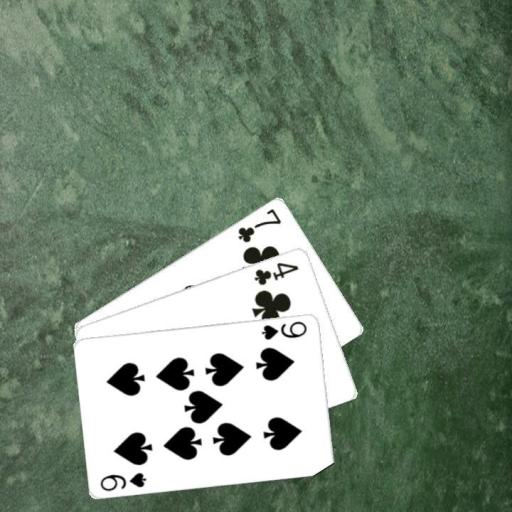4C: (251, 259, 301, 286)
7C: (235, 205, 283, 244)
9S: (258, 317, 309, 341), (97, 469, 148, 492)
